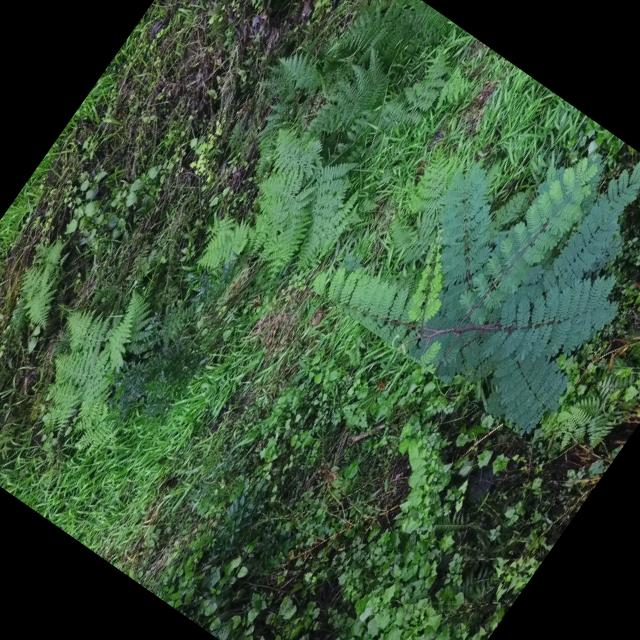Mysore-Thorn-Weed: (304, 39, 640, 444)
